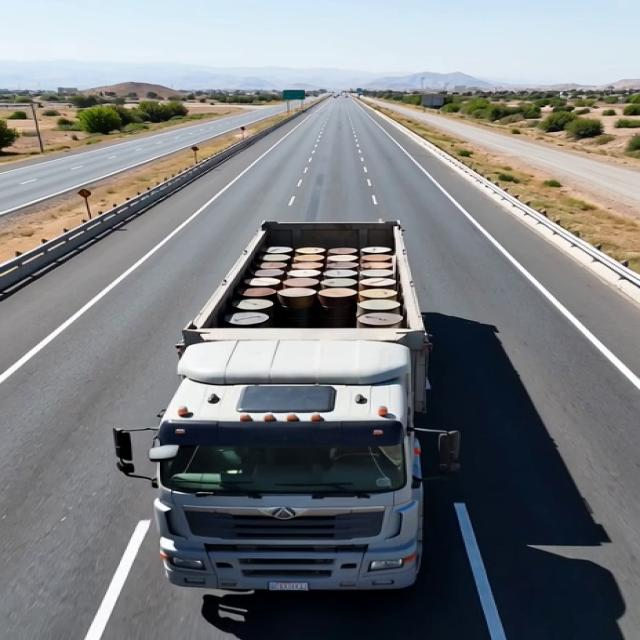trailer: (180, 218, 441, 344)
truck: (108, 204, 477, 598)
